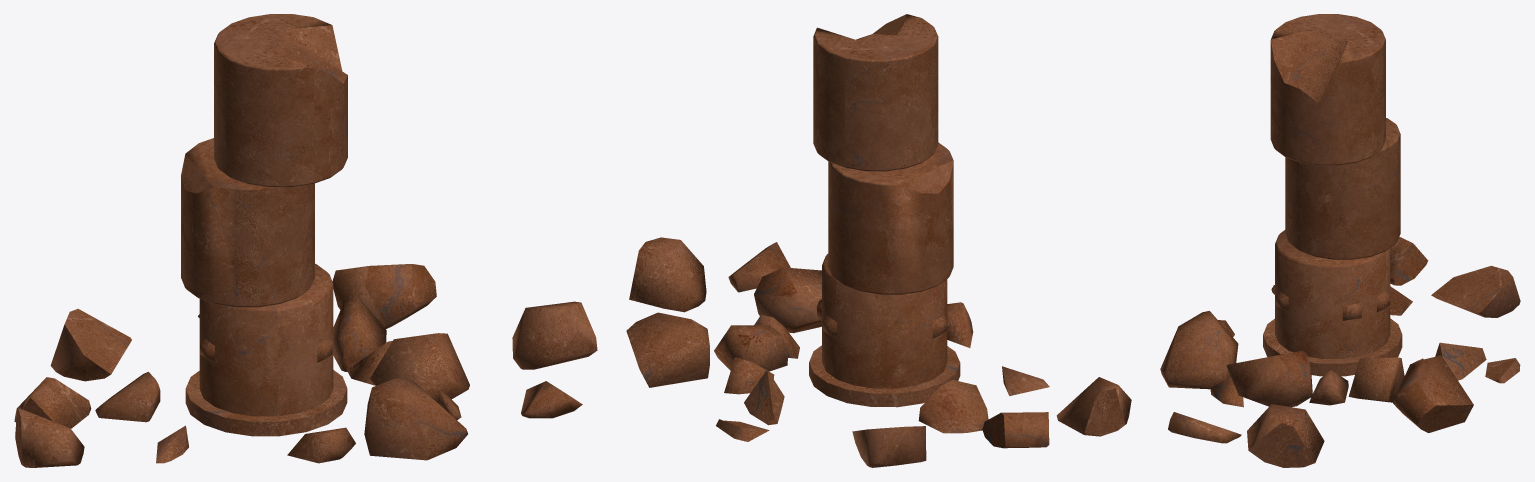
File: kolonna_dest_01.glb
3 renders of one model, left to right at view 1: azimuth 30°, elevation 25°; view 2: azimuth 150°, elevation 25°; view 3: azimuth 270°, elevation 25°, orthographic. The views are drawn at different scales.
Visible parts, largest first — view 1: kolonna_dest_01; view 2: kolonna_dest_01; view 3: kolonna_dest_01.
Boxes of the visible parts, x1=… form: kolonna_dest_01: x1=14, y1=14, x2=597, y2=467; kolonna_dest_01: x1=626, y1=14, x2=1131, y2=467; kolonna_dest_01: x1=1160, y1=14, x2=1520, y2=467.
Size of the model in its own units: 2.34 by 1.53 by 1.56.
1 material, 1 textured.
